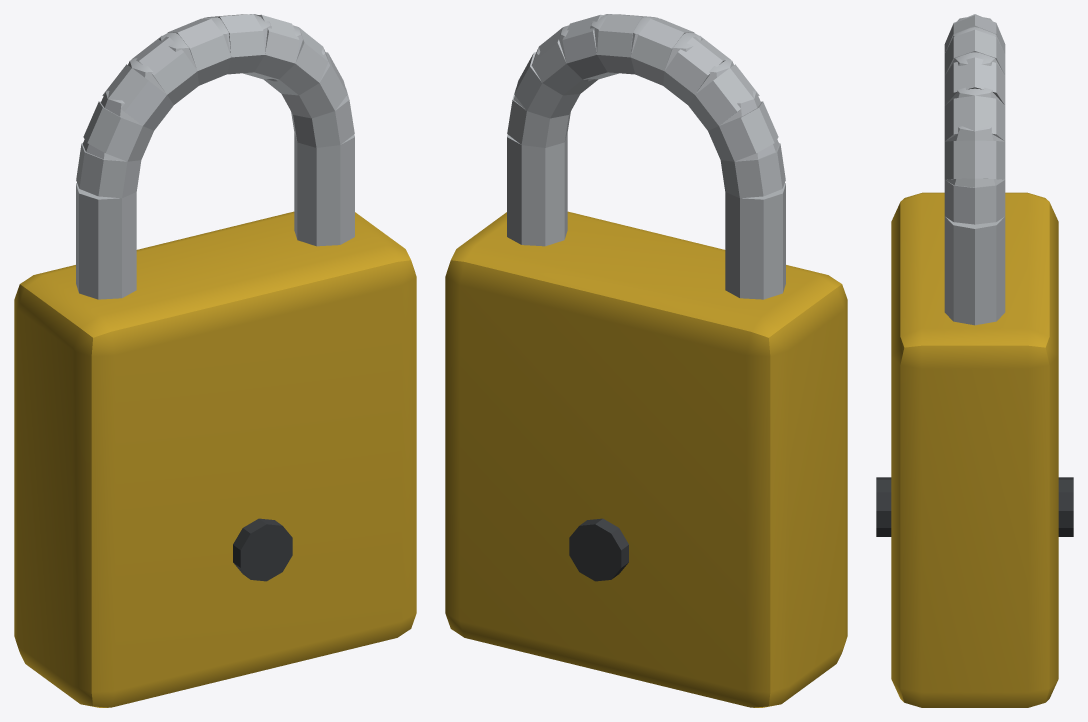
File: prop_padlock_brass.glb
The picture shows the model from 3 angles, left to right: view 1: azimuth 30°, elevation 25°; view 2: azimuth 150°, elevation 25°; view 3: azimuth 270°, elevation 25°; orthographic projection. The views are drawn at different scales.
Visible parts, largest first — view 1: Body, Shackle; view 2: Body, Shackle; view 3: Body, Shackle.
Boxes of the visible parts, x1,y1,x2,y2 form: Body: (14,211,416,707); Shackle: (76,14,354,299); Body: (445,211,847,707); Shackle: (507,14,785,299); Body: (876,192,1073,707); Shackle: (944,14,1005,325).
Size of the model in its own units: 0.05 by 0.089 by 0.026.
